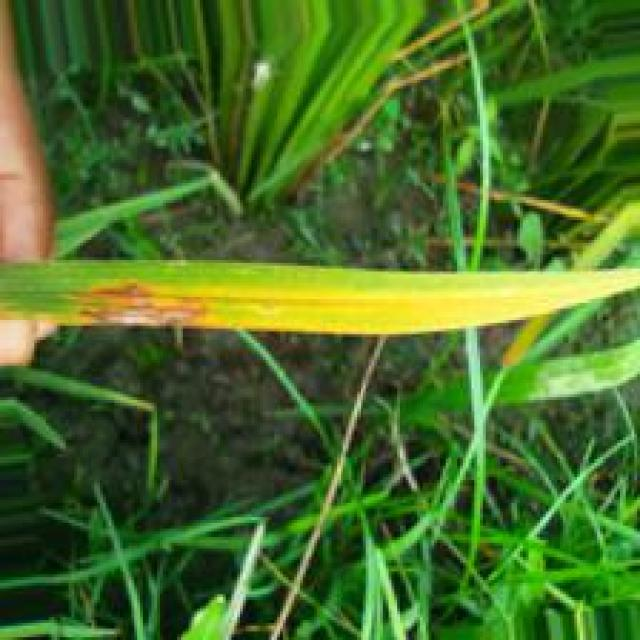Narrow_Brown_Leaf_Spot: (57, 272, 603, 333)
